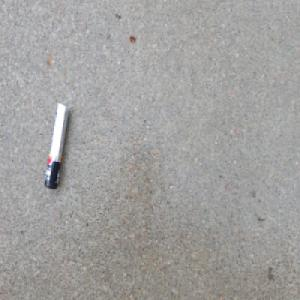Battery: (44, 100, 71, 192)
